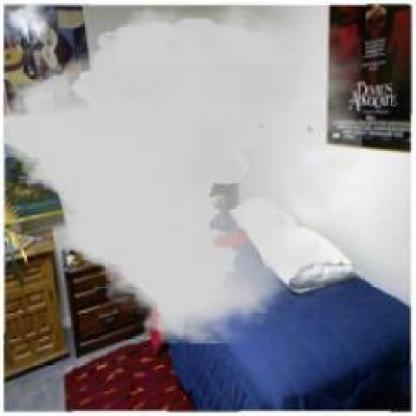Smoke: (2, 2, 362, 343)
